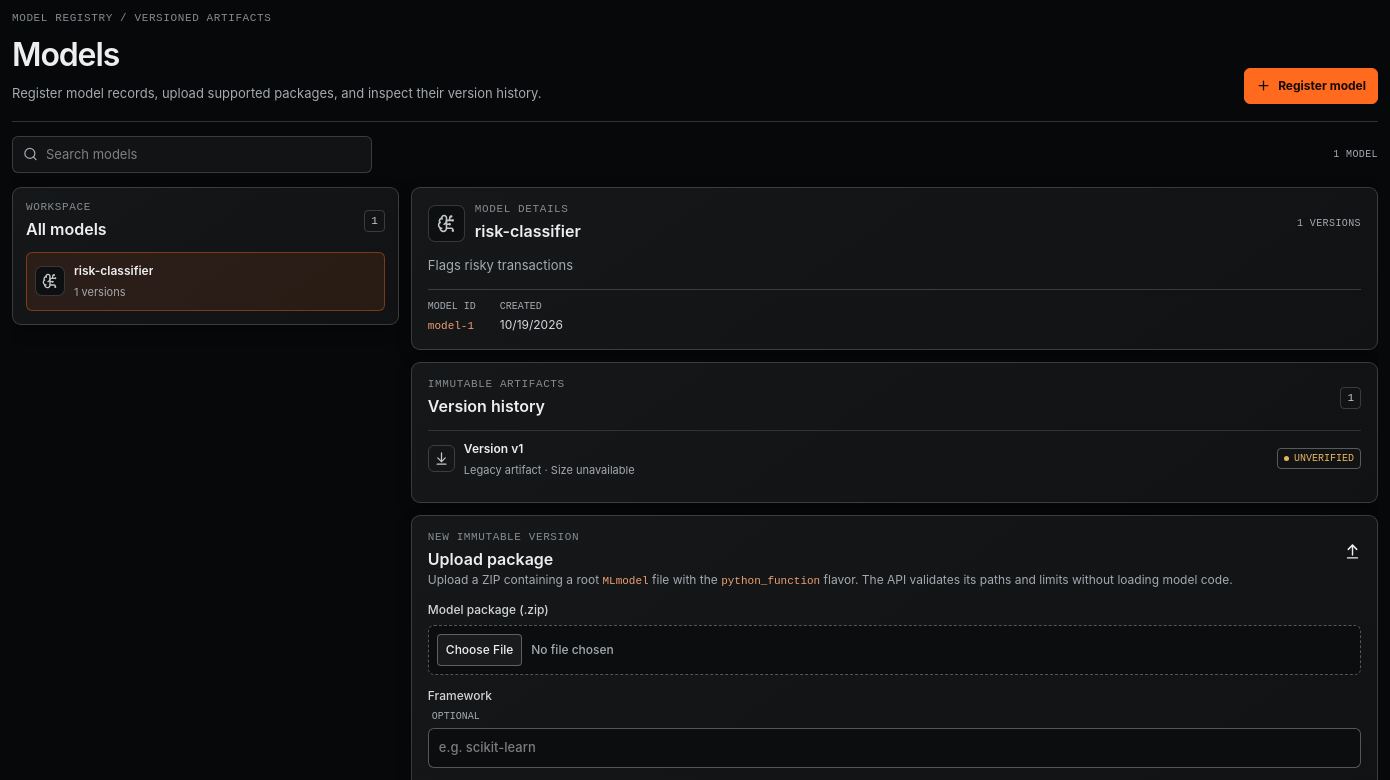
Test: Models registry › filters models and shows version status and details
The width and height of the screenshot is (1390, 780).
Expected: the heading "risk-classifier" is shown, [475,221,581,241]
Expected: the text "UNVERIFIED" is shown, [1277,448,1361,469]
Type "unknown" into the field labelled "Search models". click: coordinates (203, 154)
box: [46,144,361,164]
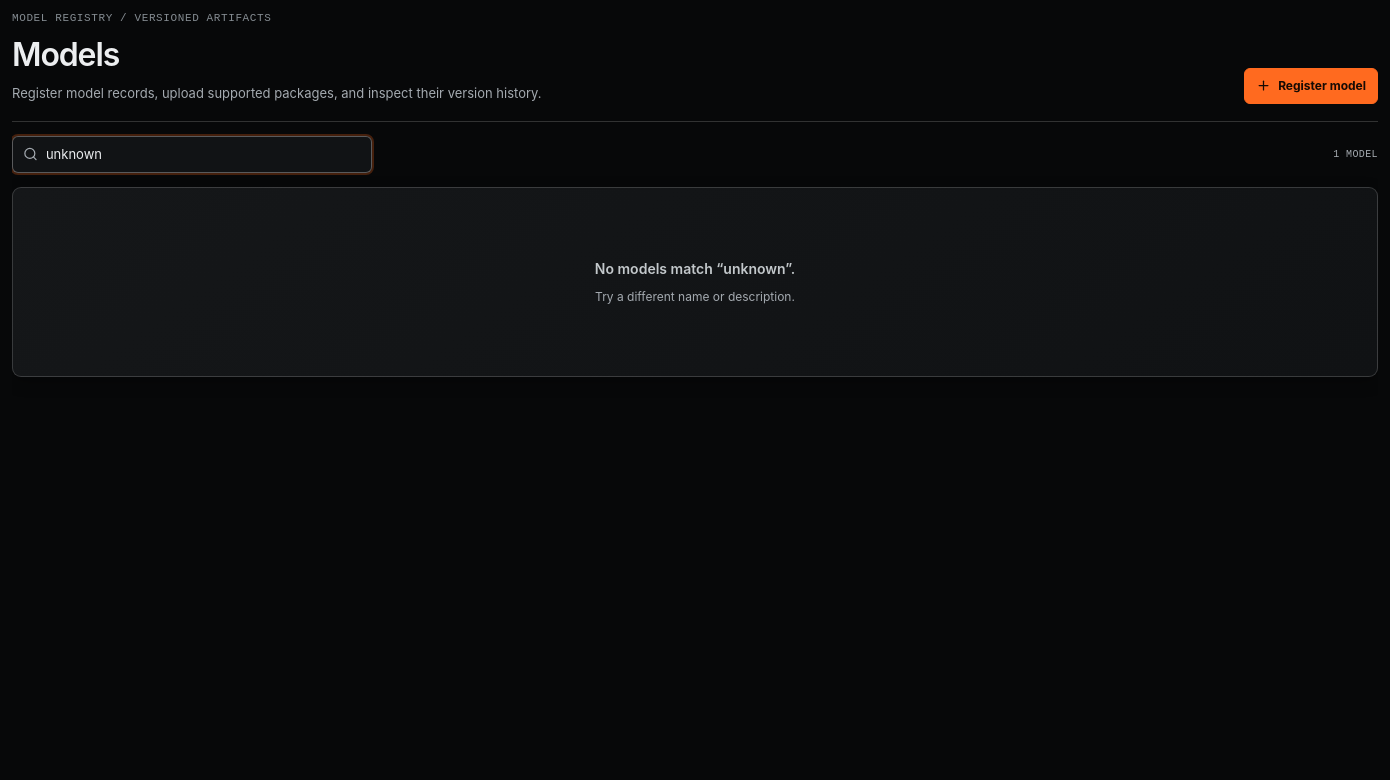
Expected: the text "No models match “unknown”." is shown, [595,258,795,279]
